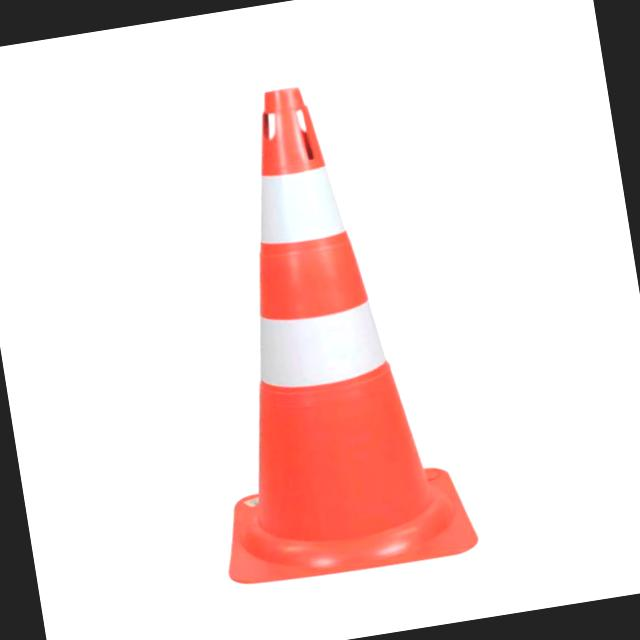cone: (168, 71, 477, 590)
